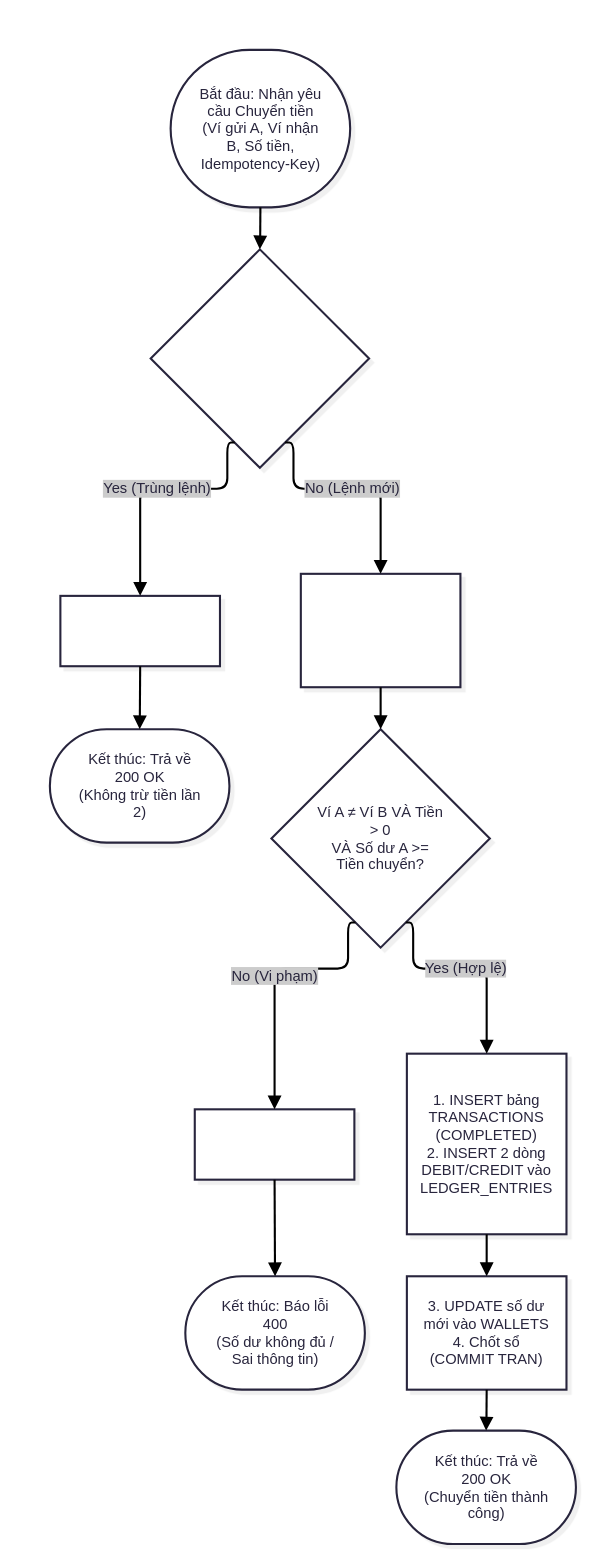
The diagram is 599 pixels wide and 1567 high, and some of its shapes have lost their labels. Here are the shapes that lost their labels. From the top down, the centre of each, then its label:
At point (261, 360): "Idempotency-Key đã tồn tại chưa?".
At point (142, 632): "Lấy kết quả giao dịch cũ".
At point (382, 632): "Bật BEGIN TRAN & Khóa dòng ví A, B (UPDLOCK, ROWLOCK)".
At point (276, 1146): "Hủy giao dịch (ROLLBACK)".
